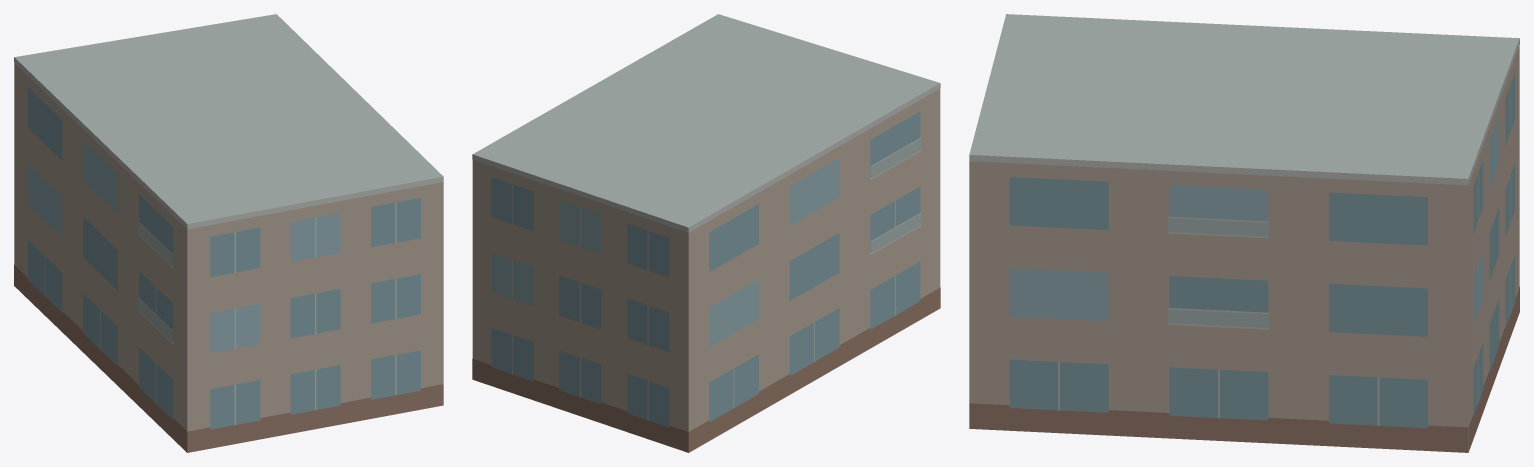
File: survey-upis-32878968.glb
3 views of the same model, side by side, from view 1: azimuth 30°, elevation 25°; view 2: azimuth 150°, elevation 25°; view 3: azimuth 270°, elevation 25° (orthographic). The views are drawn at different scales.
Parts seen in each view (by area): view 1: survey-upis-32878968.tmp; view 2: survey-upis-32878968.tmp; view 3: survey-upis-32878968.tmp.
Part boxes in pixels (x1=…): survey-upis-32878968.tmp: x1=14, y1=14, x2=443, y2=452; survey-upis-32878968.tmp: x1=472, y1=14, x2=940, y2=452; survey-upis-32878968.tmp: x1=969, y1=14, x2=1519, y2=452.
Bounding box in the file's own units: 13.57 × 10.5 × 19.13.
